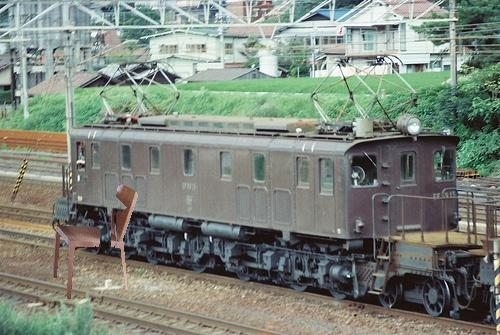tampered: (54, 185, 138, 299)
